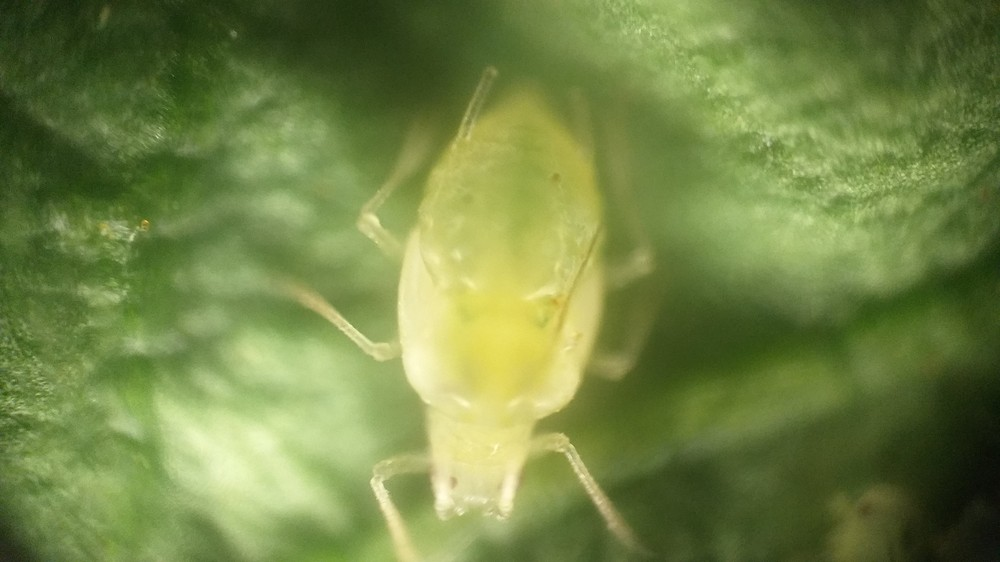Pulgon: (299, 67, 702, 558)
